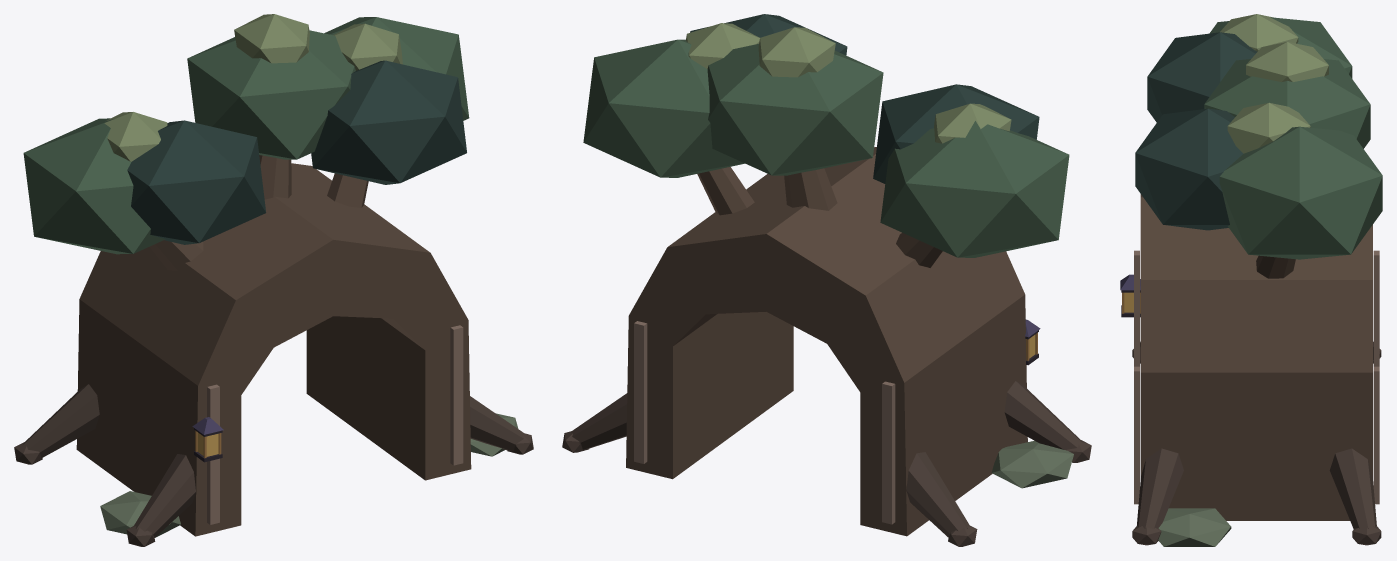
The model's file is HauntedWoods_HollowOakPassage_Showcase.glb.
3 renders of one model, left to right at view 1: azimuth 30°, elevation 25°; view 2: azimuth 150°, elevation 25°; view 3: azimuth 270°, elevation 25°, orthographic. The views are drawn at different scales.
Visible parts, largest first — view 1: HauntedWoods_HollowOakPassage_Showcase; view 2: HauntedWoods_HollowOakPassage_Showcase; view 3: HauntedWoods_HollowOakPassage_Showcase.
Boxes of the visible parts, bbox=[...] form: HauntedWoods_HollowOakPassage_Showcase: bbox=[14, 14, 533, 546]; HauntedWoods_HollowOakPassage_Showcase: bbox=[562, 14, 1091, 546]; HauntedWoods_HollowOakPassage_Showcase: bbox=[1120, 14, 1382, 546].
Bounding box in the file's own units: 8.15 × 7.67 × 4.3.
